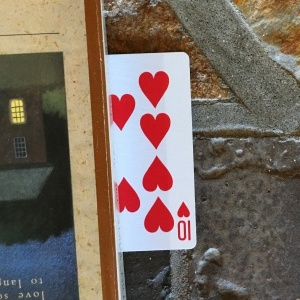card: (101, 50, 198, 250)
